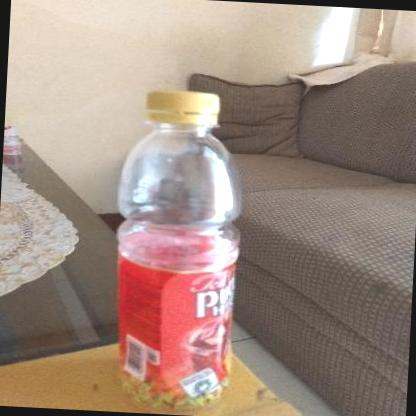plastic_bottles: (102, 86, 252, 416)
